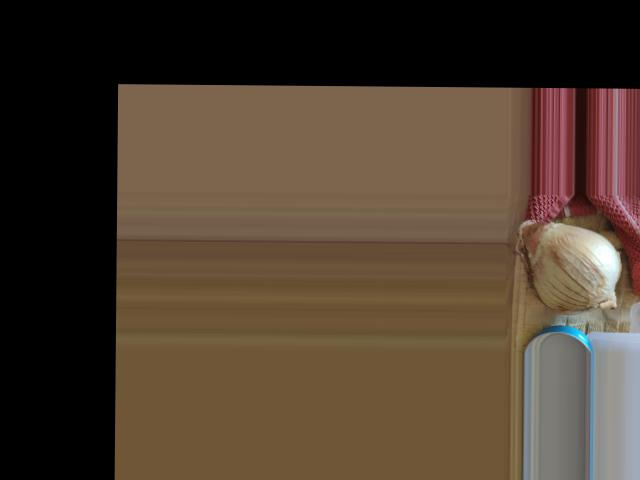onion: (519, 218, 620, 316)
